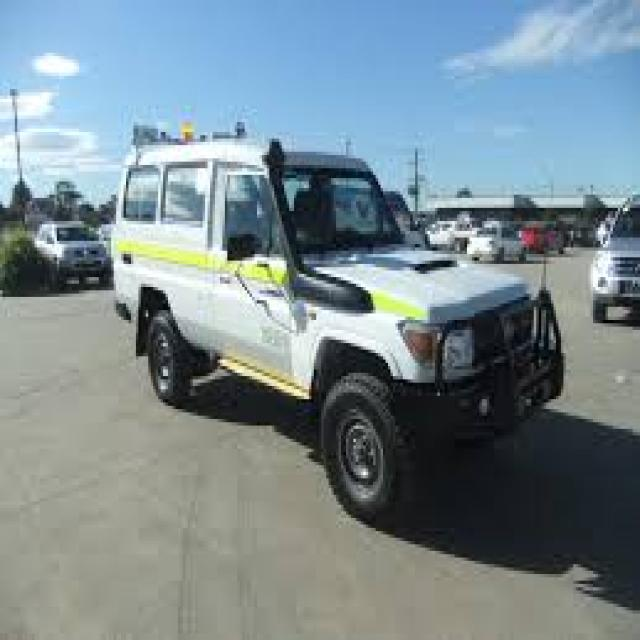light_vehicle: (111, 116, 564, 512)
